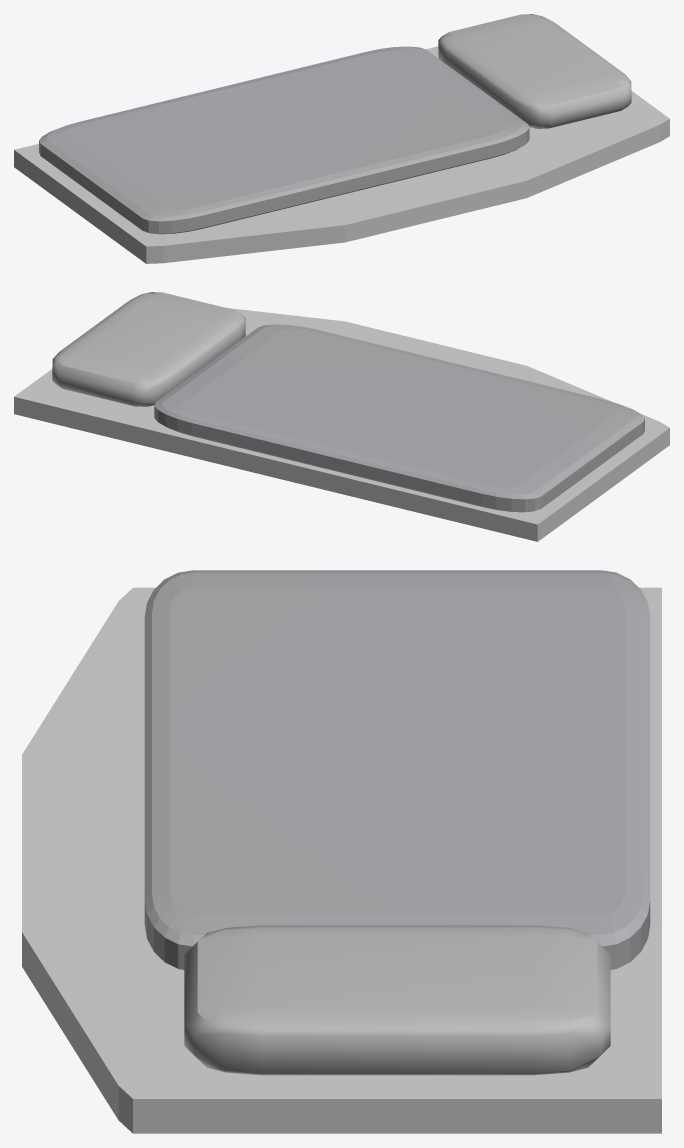
Rendered from hangedBedOnRight 1.fbx.
3 views of the same model, one above another, from view 1: azimuth 30°, elevation 25°; view 2: azimuth 150°, elevation 25°; view 3: azimuth 270°, elevation 25° (orthographic). The views are drawn at different scales.
Visible parts, largest first — view 1: hangedBedOnRight; view 2: hangedBedOnRight; view 3: hangedBedOnRight.
Boxes of the visible parts, x1=… form: hangedBedOnRight: x1=14, y1=14, x2=669, y2=263; hangedBedOnRight: x1=14, y1=292, x2=669, y2=541; hangedBedOnRight: x1=22, y1=570, x2=661, y2=1133.
Bounding box in the file's own units: 10264 × 883 × 5430.
